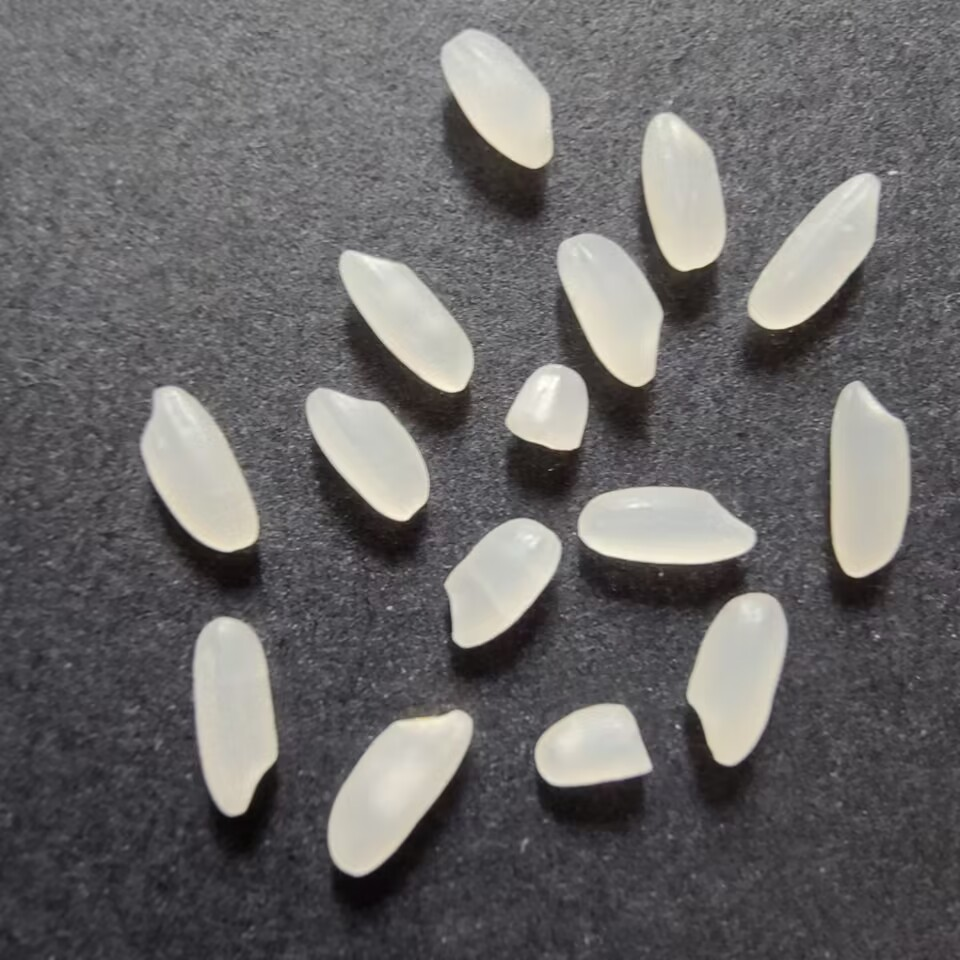broken: (528, 699, 653, 793), (496, 360, 592, 456)
rice: (324, 698, 480, 881), (744, 167, 885, 337), (133, 383, 263, 557), (332, 245, 477, 397), (184, 611, 285, 823), (681, 588, 792, 769), (820, 376, 916, 583), (300, 384, 436, 526), (434, 24, 558, 174), (552, 233, 668, 392), (437, 513, 563, 654), (576, 481, 766, 570), (639, 109, 732, 274)
